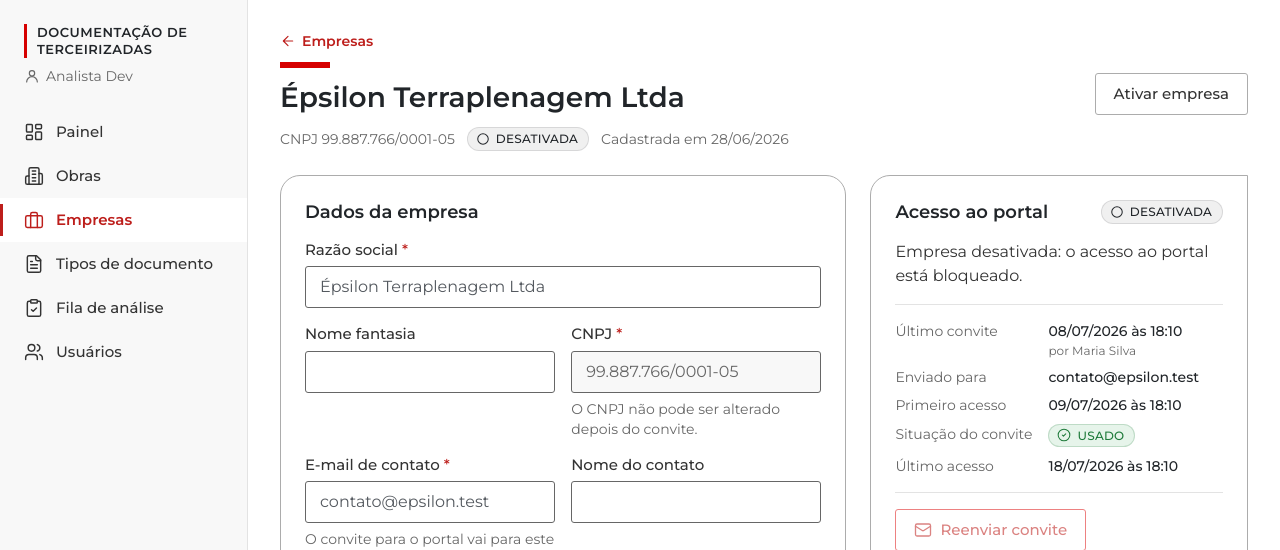
Detalhe da empresa — dados e ativação › ativar uma empresa desativada tira o selo "Desativada"
This screenshot has width=1280, height=550.
Expected: the heading "Épsilon Terraplenagem Ltda" is shown, left=280, top=80, right=685, bottom=114
Expected: the text "Desativada" next to "Cadastrada em" is shown, left=496, top=131, right=578, bottom=146
Step 1. Click the button "Ativar empresa" → (1171, 94), box left=1095, top=73, right=1248, bottom=115
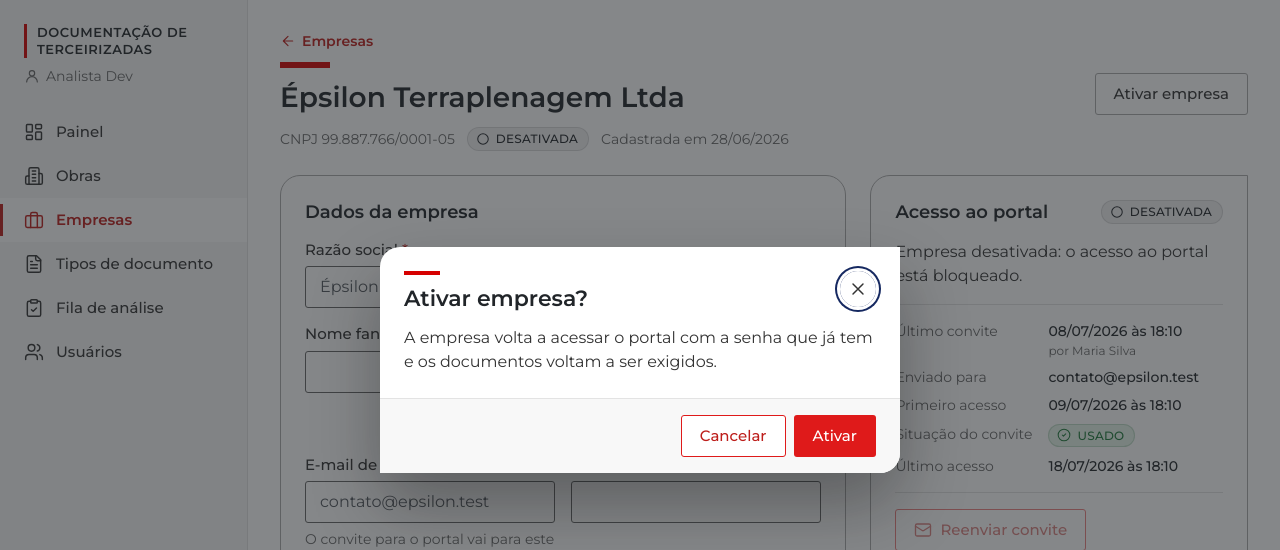
Step 2. Click the button "Ativar" → (835, 436), box left=794, top=415, right=876, bottom=457
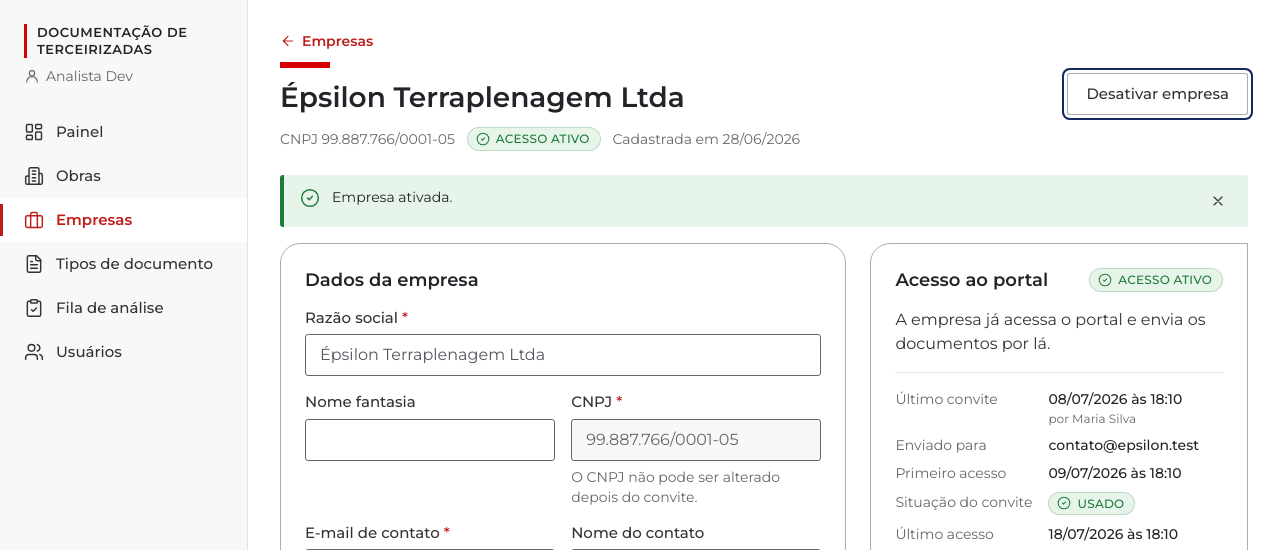
Now the text "Empresa ativada." is shown, box left=332, top=187, right=452, bottom=207
Now the text "Desativada" is gone
Now the button "Desativar empresa" is shown, box left=1067, top=73, right=1248, bottom=115
